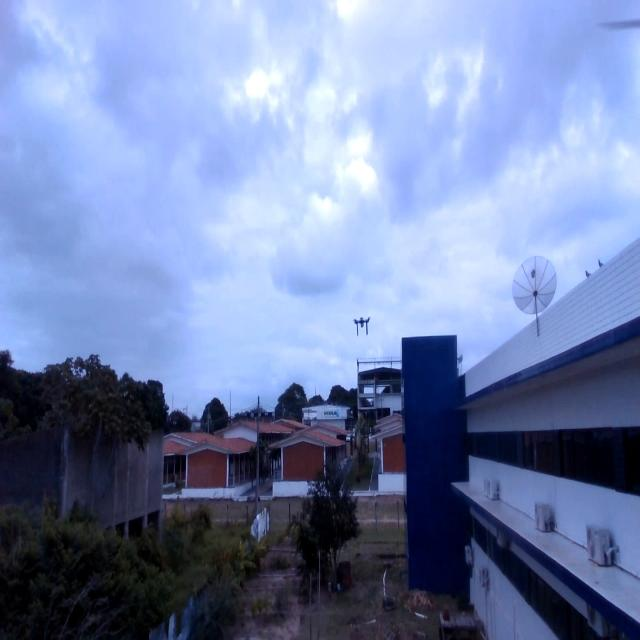-uav-: (348, 311, 376, 347)
